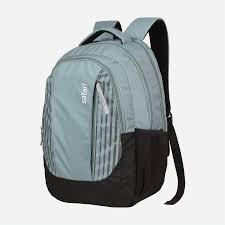backpack: (40, 16, 185, 207)
